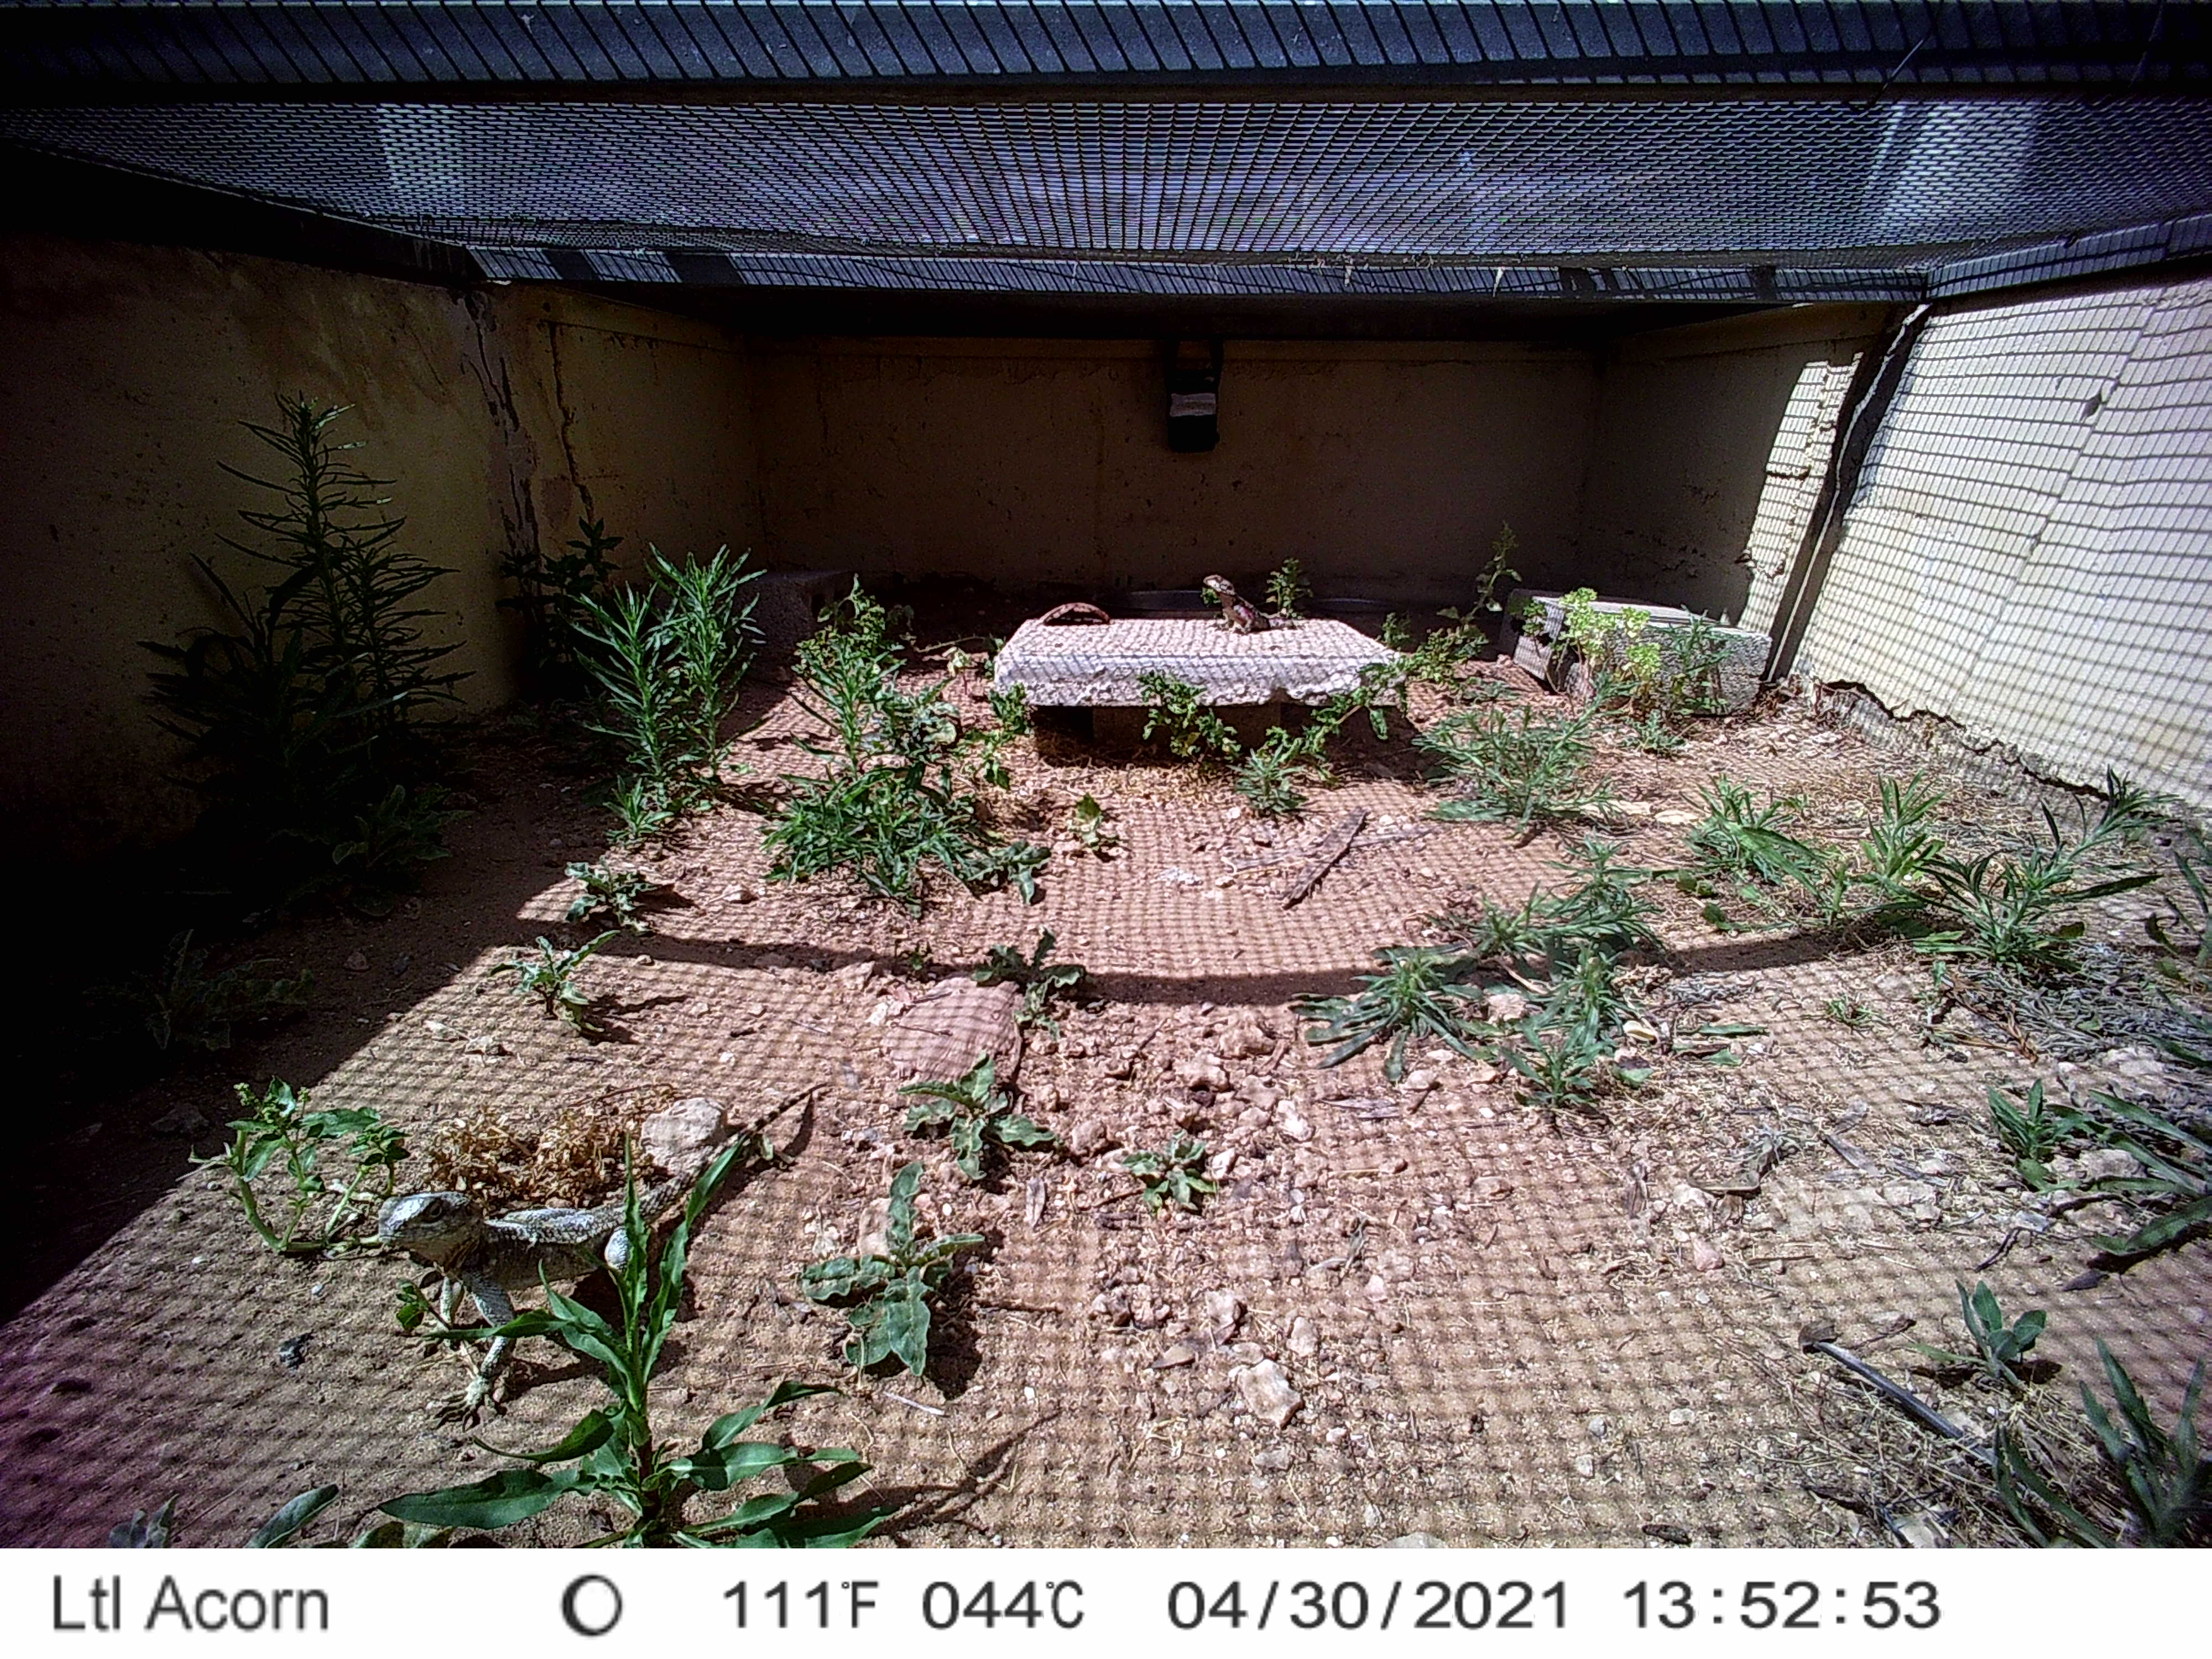lizard: (369, 1073, 838, 1441), (1197, 568, 1306, 638)
